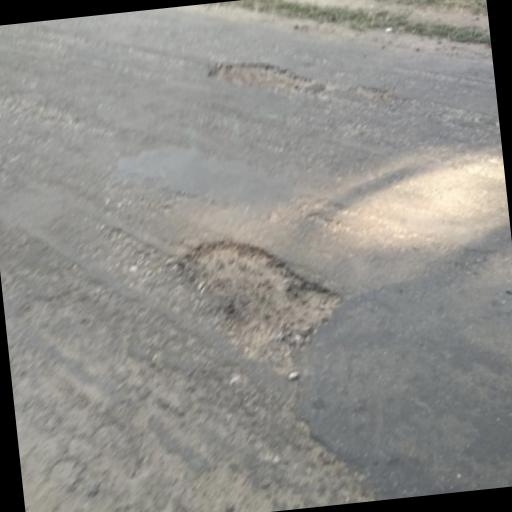pothole: (174, 222, 356, 374), (204, 50, 318, 102)
